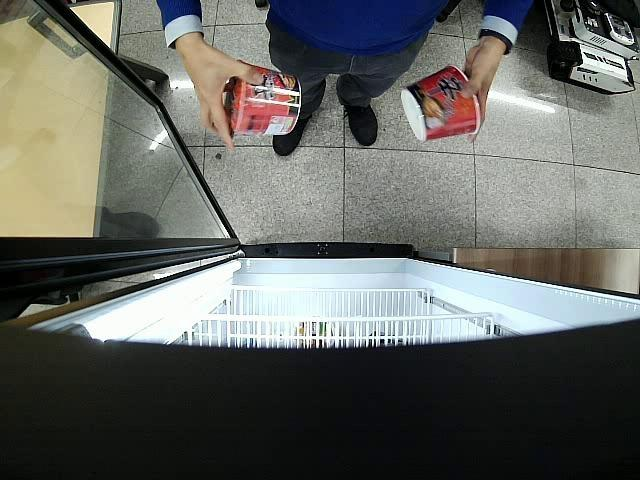01_ShinRamen_L: (400, 65, 480, 142), (224, 58, 300, 136)
